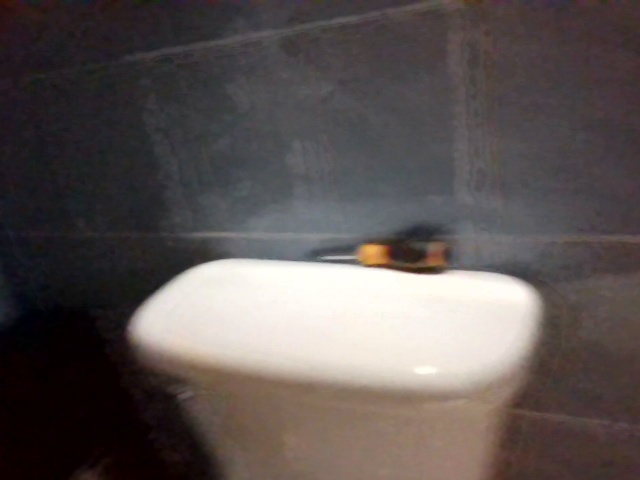destornillador: (313, 239, 452, 273)
